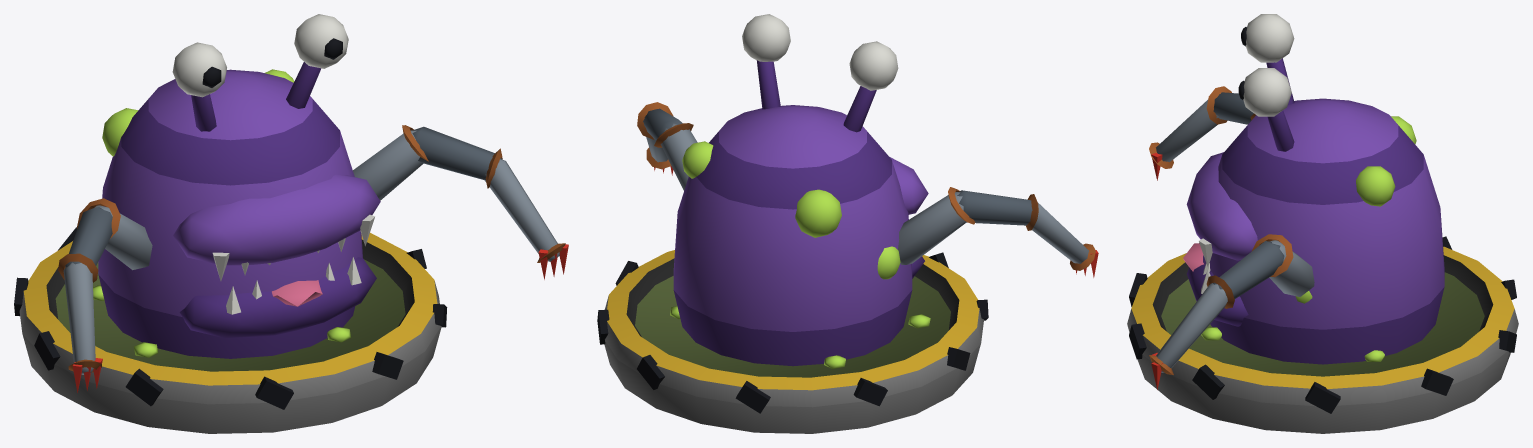
Rendered from e_boss_mutanten.glb.
The picture shows the model from 3 angles, left to right: view 1: azimuth 30°, elevation 25°; view 2: azimuth 150°, elevation 25°; view 3: azimuth 270°, elevation 25°; orthographic projection. The views are drawn at different scales.
Visible parts, largest first — view 1: body, basin, lip, jaw, eyeballs, tr2, tl2, tl1, tl0, tr0, tr1, pupil; view 2: body, basin, eyeballs, tr0, tr1, tr2, tl0, tl1, lip, tl2; view 3: body, basin, lip, eyeballs, tl2, tl1, tr2, tl0, jaw, tr1.
Boxes of the visible parts, x1=… form: body: x1=98, y1=62, x2=362, y2=358; basin: x1=14, y1=227, x2=447, y2=433; lip: x1=173, y1=174, x2=380, y2=281; jaw: x1=179, y1=257, x2=376, y2=338; eyeballs: x1=172, y1=14, x2=348, y2=97; tr2: x1=63, y1=262, x2=102, y2=392; tl2: x1=484, y1=159, x2=568, y2=279; tl1: x1=412, y1=126, x2=502, y2=188; tl0: x1=353, y1=125, x2=428, y2=200; tr0: x1=77, y1=198, x2=152, y2=270; tr1: x1=58, y1=207, x2=112, y2=282; pupil: x1=202, y1=38, x2=342, y2=87; body: x1=673, y1=60, x2=912, y2=366; basin: x1=597, y1=250, x2=988, y2=433; eyeballs: x1=742, y1=14, x2=898, y2=90; tr0: x1=898, y1=187, x2=975, y2=264; tr1: x1=957, y1=190, x2=1038, y2=230; tr2: x1=1032, y1=202, x2=1098, y2=277; tl0: x1=654, y1=123, x2=697, y2=190; tl1: x1=637, y1=102, x2=682, y2=140; lip: x1=890, y1=157, x2=928, y2=214; tl2: x1=646, y1=137, x2=673, y2=175; body: x1=1203, y1=58, x2=1444, y2=364; basin: x1=1127, y1=236, x2=1518, y2=433; lip: x1=1186, y1=152, x2=1257, y2=266; eyeballs: x1=1243, y1=14, x2=1294, y2=116; tl2: x1=1149, y1=283, x2=1227, y2=389; tl1: x1=1206, y1=241, x2=1284, y2=308; tr2: x1=1149, y1=99, x2=1218, y2=180; tl0: x1=1251, y1=234, x2=1314, y2=296; jaw: x1=1183, y1=243, x2=1248, y2=326; tr1: x1=1206, y1=86, x2=1253, y2=124.
Size of the model in its own units: 6.19 by 4.05 by 4.6.
